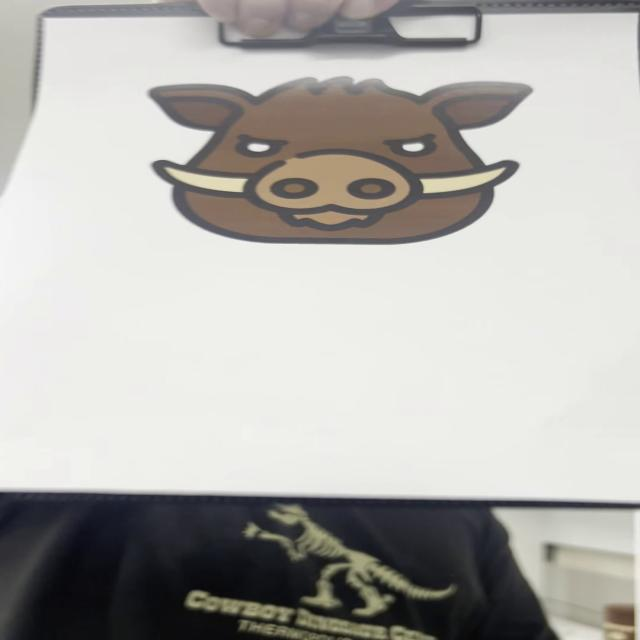animal: (145, 81, 545, 251)
